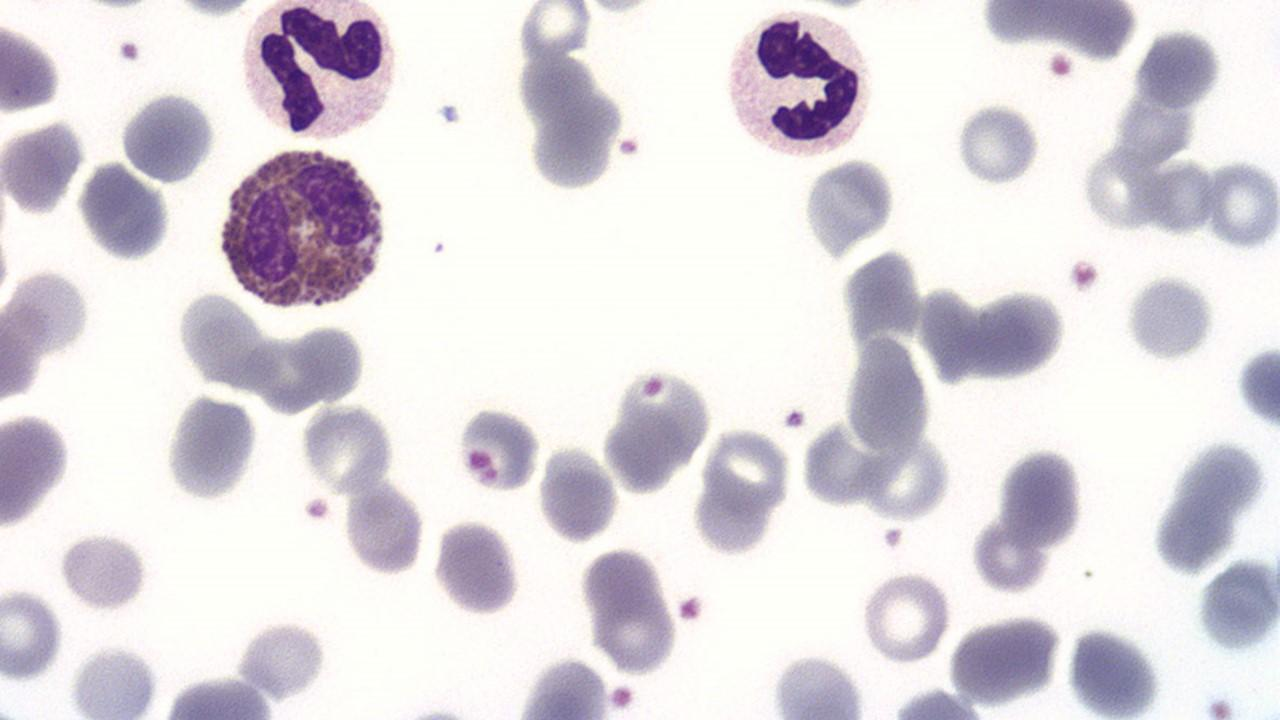Platelets: (160, 391, 258, 506), (958, 290, 1068, 385), (800, 154, 896, 260), (1062, 623, 1164, 719), (994, 444, 1084, 552), (1120, 271, 1216, 367), (523, 101, 618, 196), (951, 100, 1044, 191), (1194, 556, 1278, 656), (452, 401, 542, 494), (536, 444, 620, 543), (1131, 25, 1225, 108), (56, 530, 151, 612), (766, 650, 867, 720), (1148, 493, 1230, 577), (798, 421, 875, 509), (966, 518, 1049, 596), (0, 586, 66, 682), (688, 487, 773, 558), (1233, 343, 1280, 430), (173, 0, 252, 20), (1199, 688, 1239, 718), (672, 592, 706, 626), (1042, 49, 1076, 81), (606, 680, 638, 712), (301, 494, 335, 524), (113, 35, 144, 66), (83, 0, 152, 13), (880, 523, 906, 553)
RBC: (598, 365, 714, 498), (580, 546, 680, 676), (958, 290, 1070, 384), (430, 515, 524, 618), (0, 407, 74, 533), (300, 401, 399, 495), (856, 568, 950, 666), (700, 424, 792, 523), (535, 443, 621, 543), (1, 117, 86, 217), (341, 481, 428, 578), (952, 96, 1041, 190), (860, 434, 952, 522), (1080, 142, 1168, 233), (1203, 153, 1279, 254), (798, 417, 878, 511), (763, 650, 873, 718), (66, 644, 163, 718), (1, 586, 65, 684), (1, 16, 63, 115), (1146, 156, 1216, 240)
WBC: (215, 142, 392, 316), (716, 4, 878, 163), (232, 0, 404, 148), (1148, 432, 1274, 588), (598, 365, 716, 496), (944, 609, 1066, 707), (159, 389, 260, 504), (840, 335, 933, 457), (75, 159, 176, 265), (799, 156, 899, 261), (972, 1, 1142, 62), (432, 514, 529, 620), (116, 87, 219, 186), (1120, 265, 1218, 365), (994, 441, 1087, 544), (1193, 556, 1279, 656), (1133, 25, 1223, 110), (1150, 491, 1238, 577)
